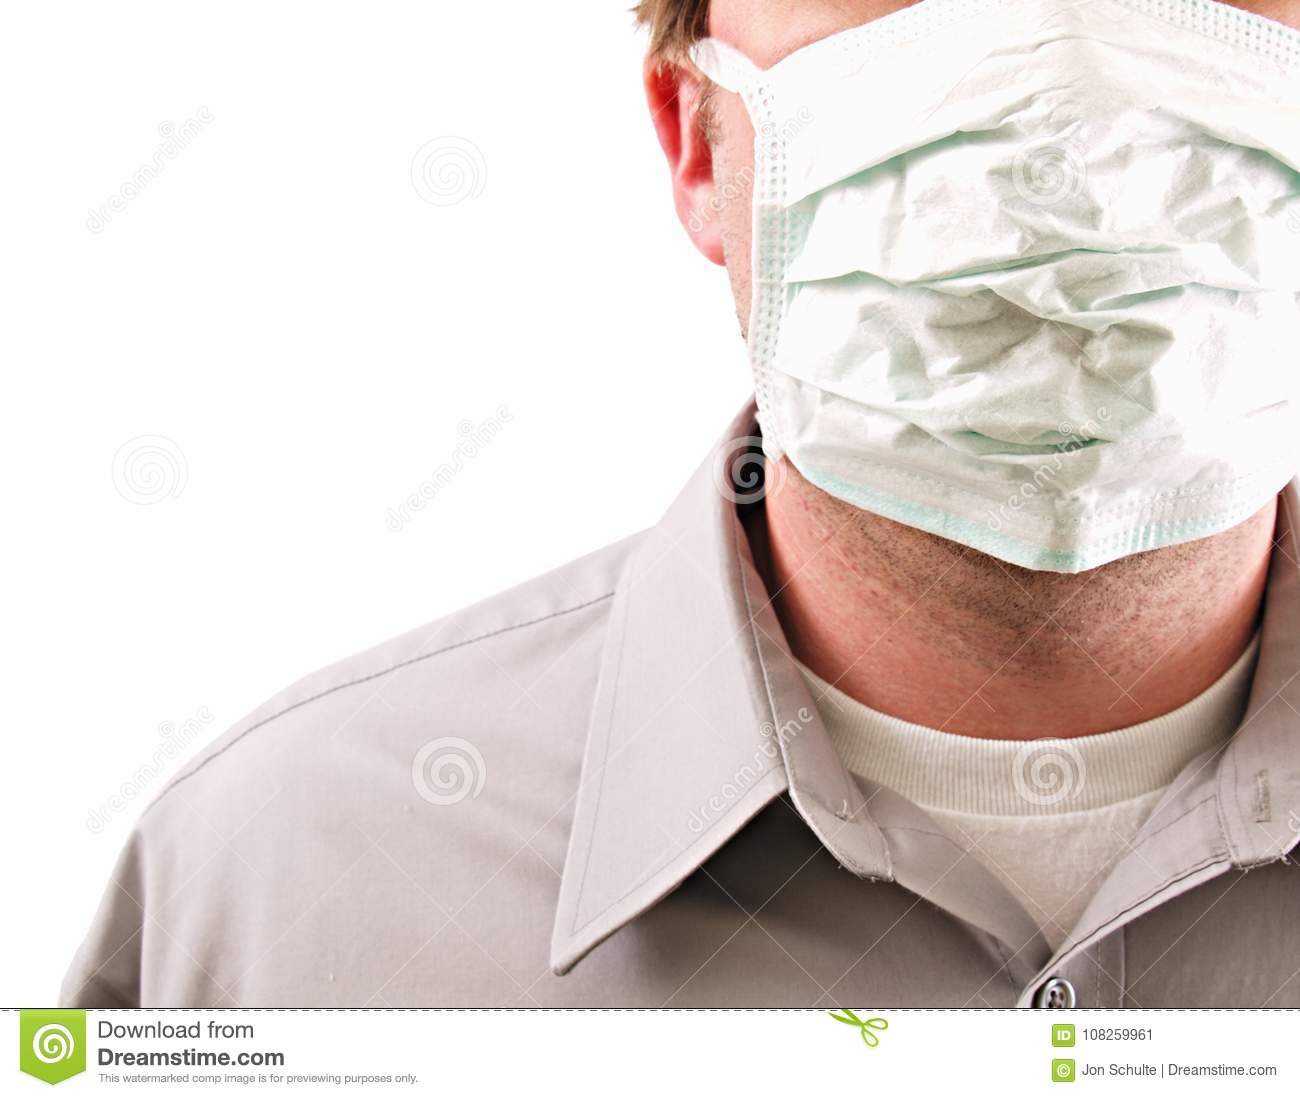mask: (751, 1, 1300, 585)
